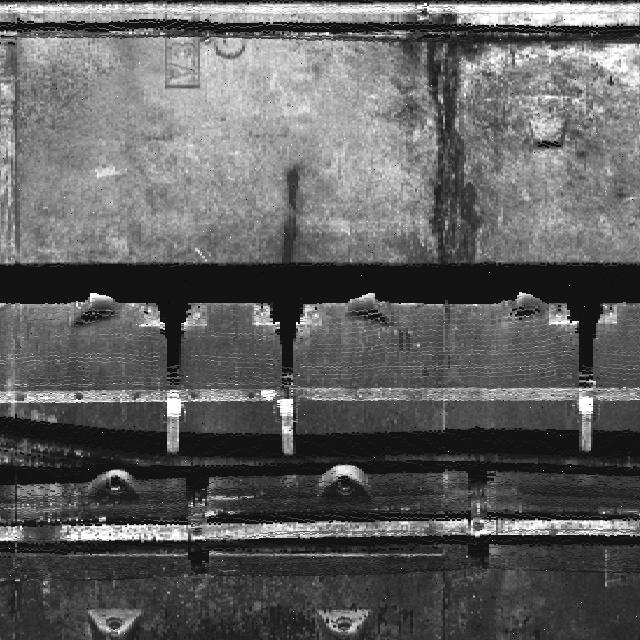leakage: (402, 0, 496, 261), (272, 157, 310, 263)
